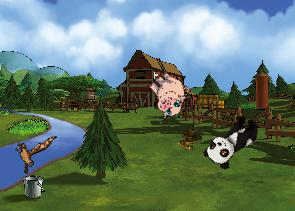eagle: (7, 123, 57, 180)
panda: (200, 108, 264, 173)
pig: (139, 65, 195, 121)
